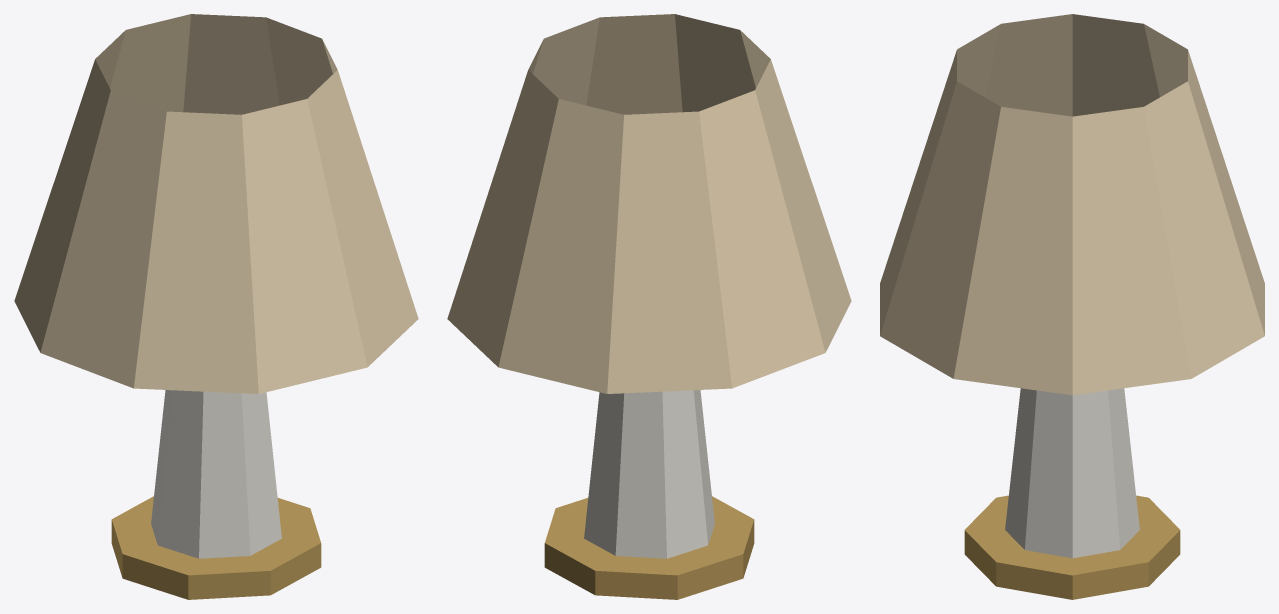
Rendered from bedside_lamp.gltf.
3 renders of one model, left to right at view 1: azimuth 30°, elevation 25°; view 2: azimuth 150°, elevation 25°; view 3: azimuth 270°, elevation 25°, orthographic.
Parts seen in each view (by area): view 1: Mesh; view 2: Mesh; view 3: Mesh.
Boxes of the visible parts, x1,y1,x2,y2 form: Mesh: [14, 14, 418, 599]; Mesh: [447, 14, 851, 599]; Mesh: [880, 14, 1264, 599].
Size of the model in its own units: 0.3 by 0.4 by 0.2853.
